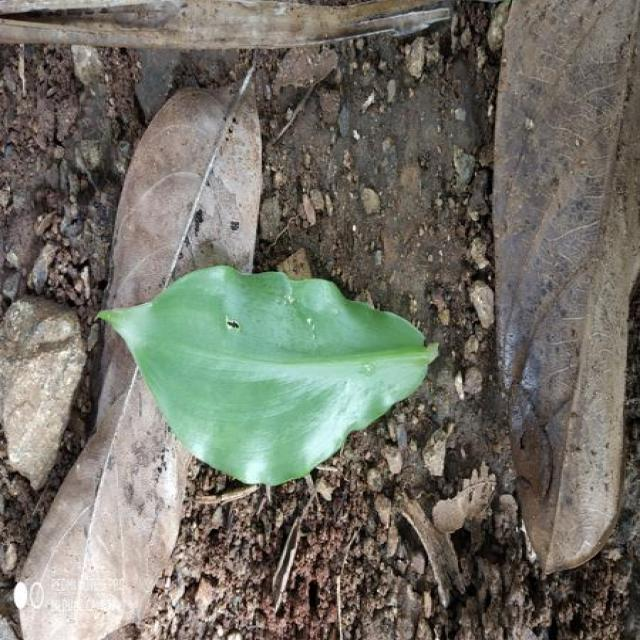insulin: (100, 266, 437, 484)
